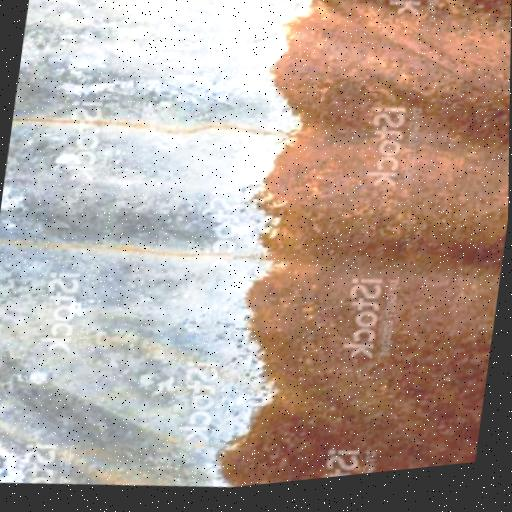corrosion: (193, 0, 512, 491)
